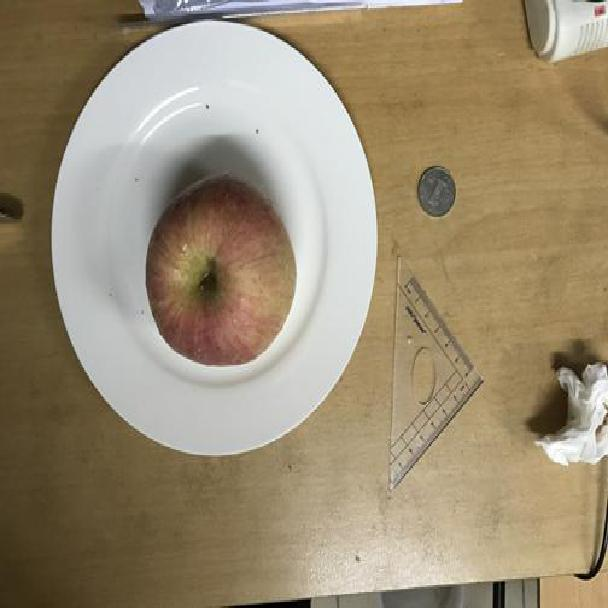apple: (140, 175, 299, 369)
